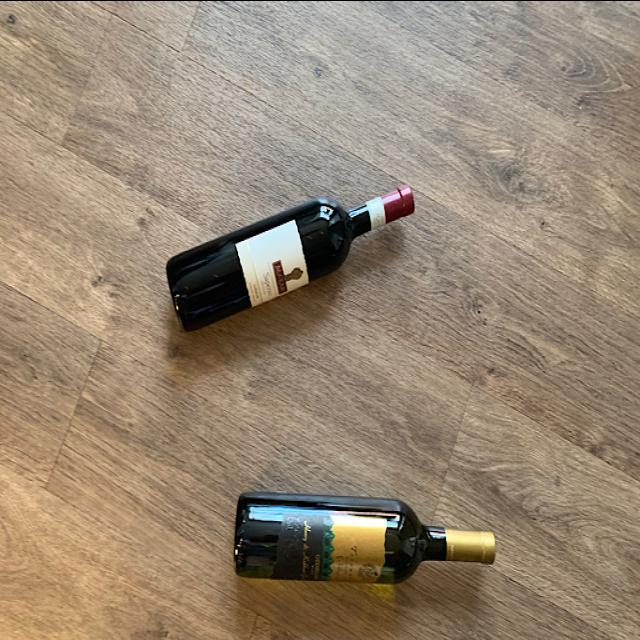litter: (164, 181, 420, 331), (232, 488, 500, 592)
